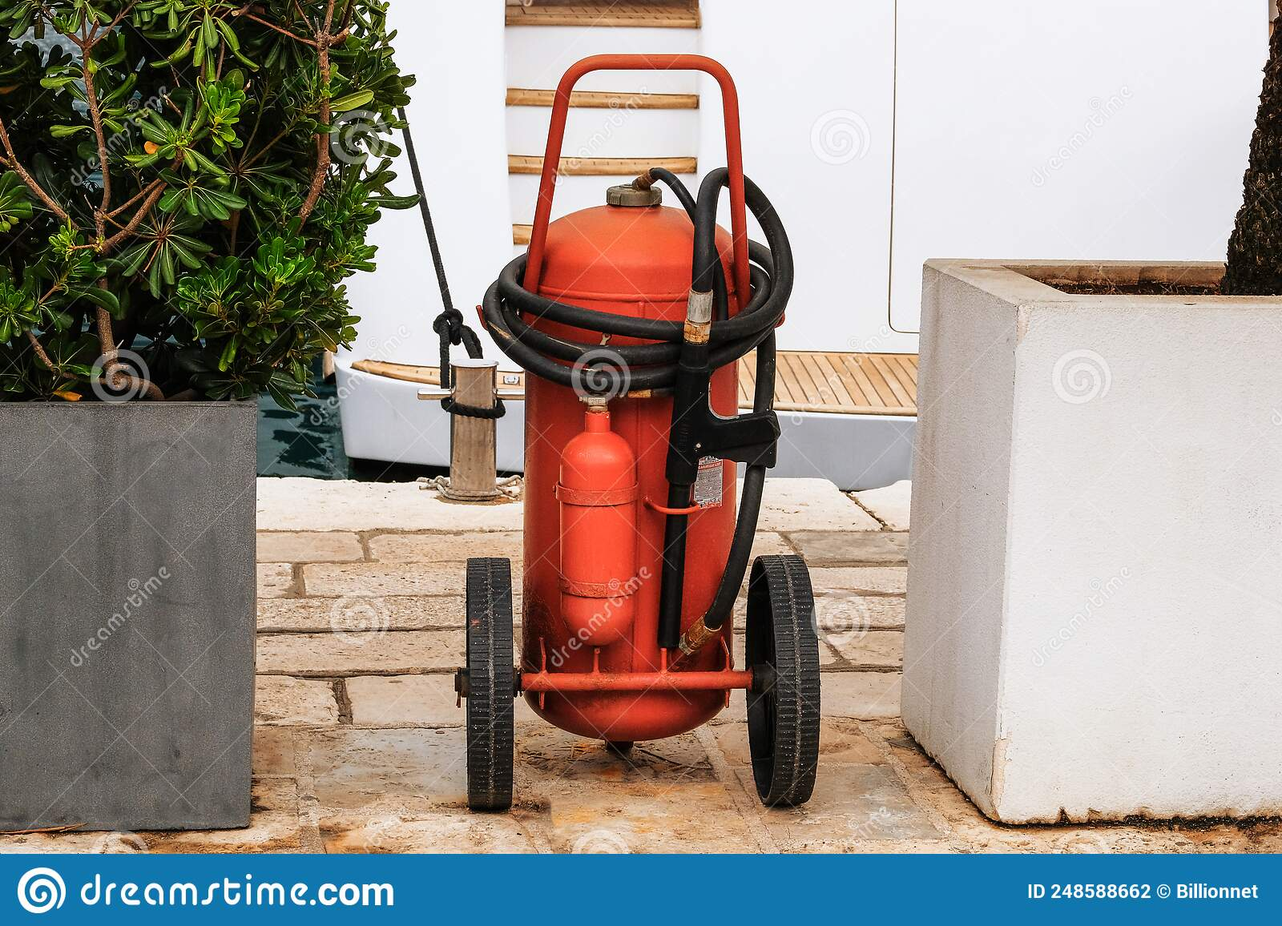fire_extinguisher: (454, 52, 822, 811), (552, 398, 640, 649)
